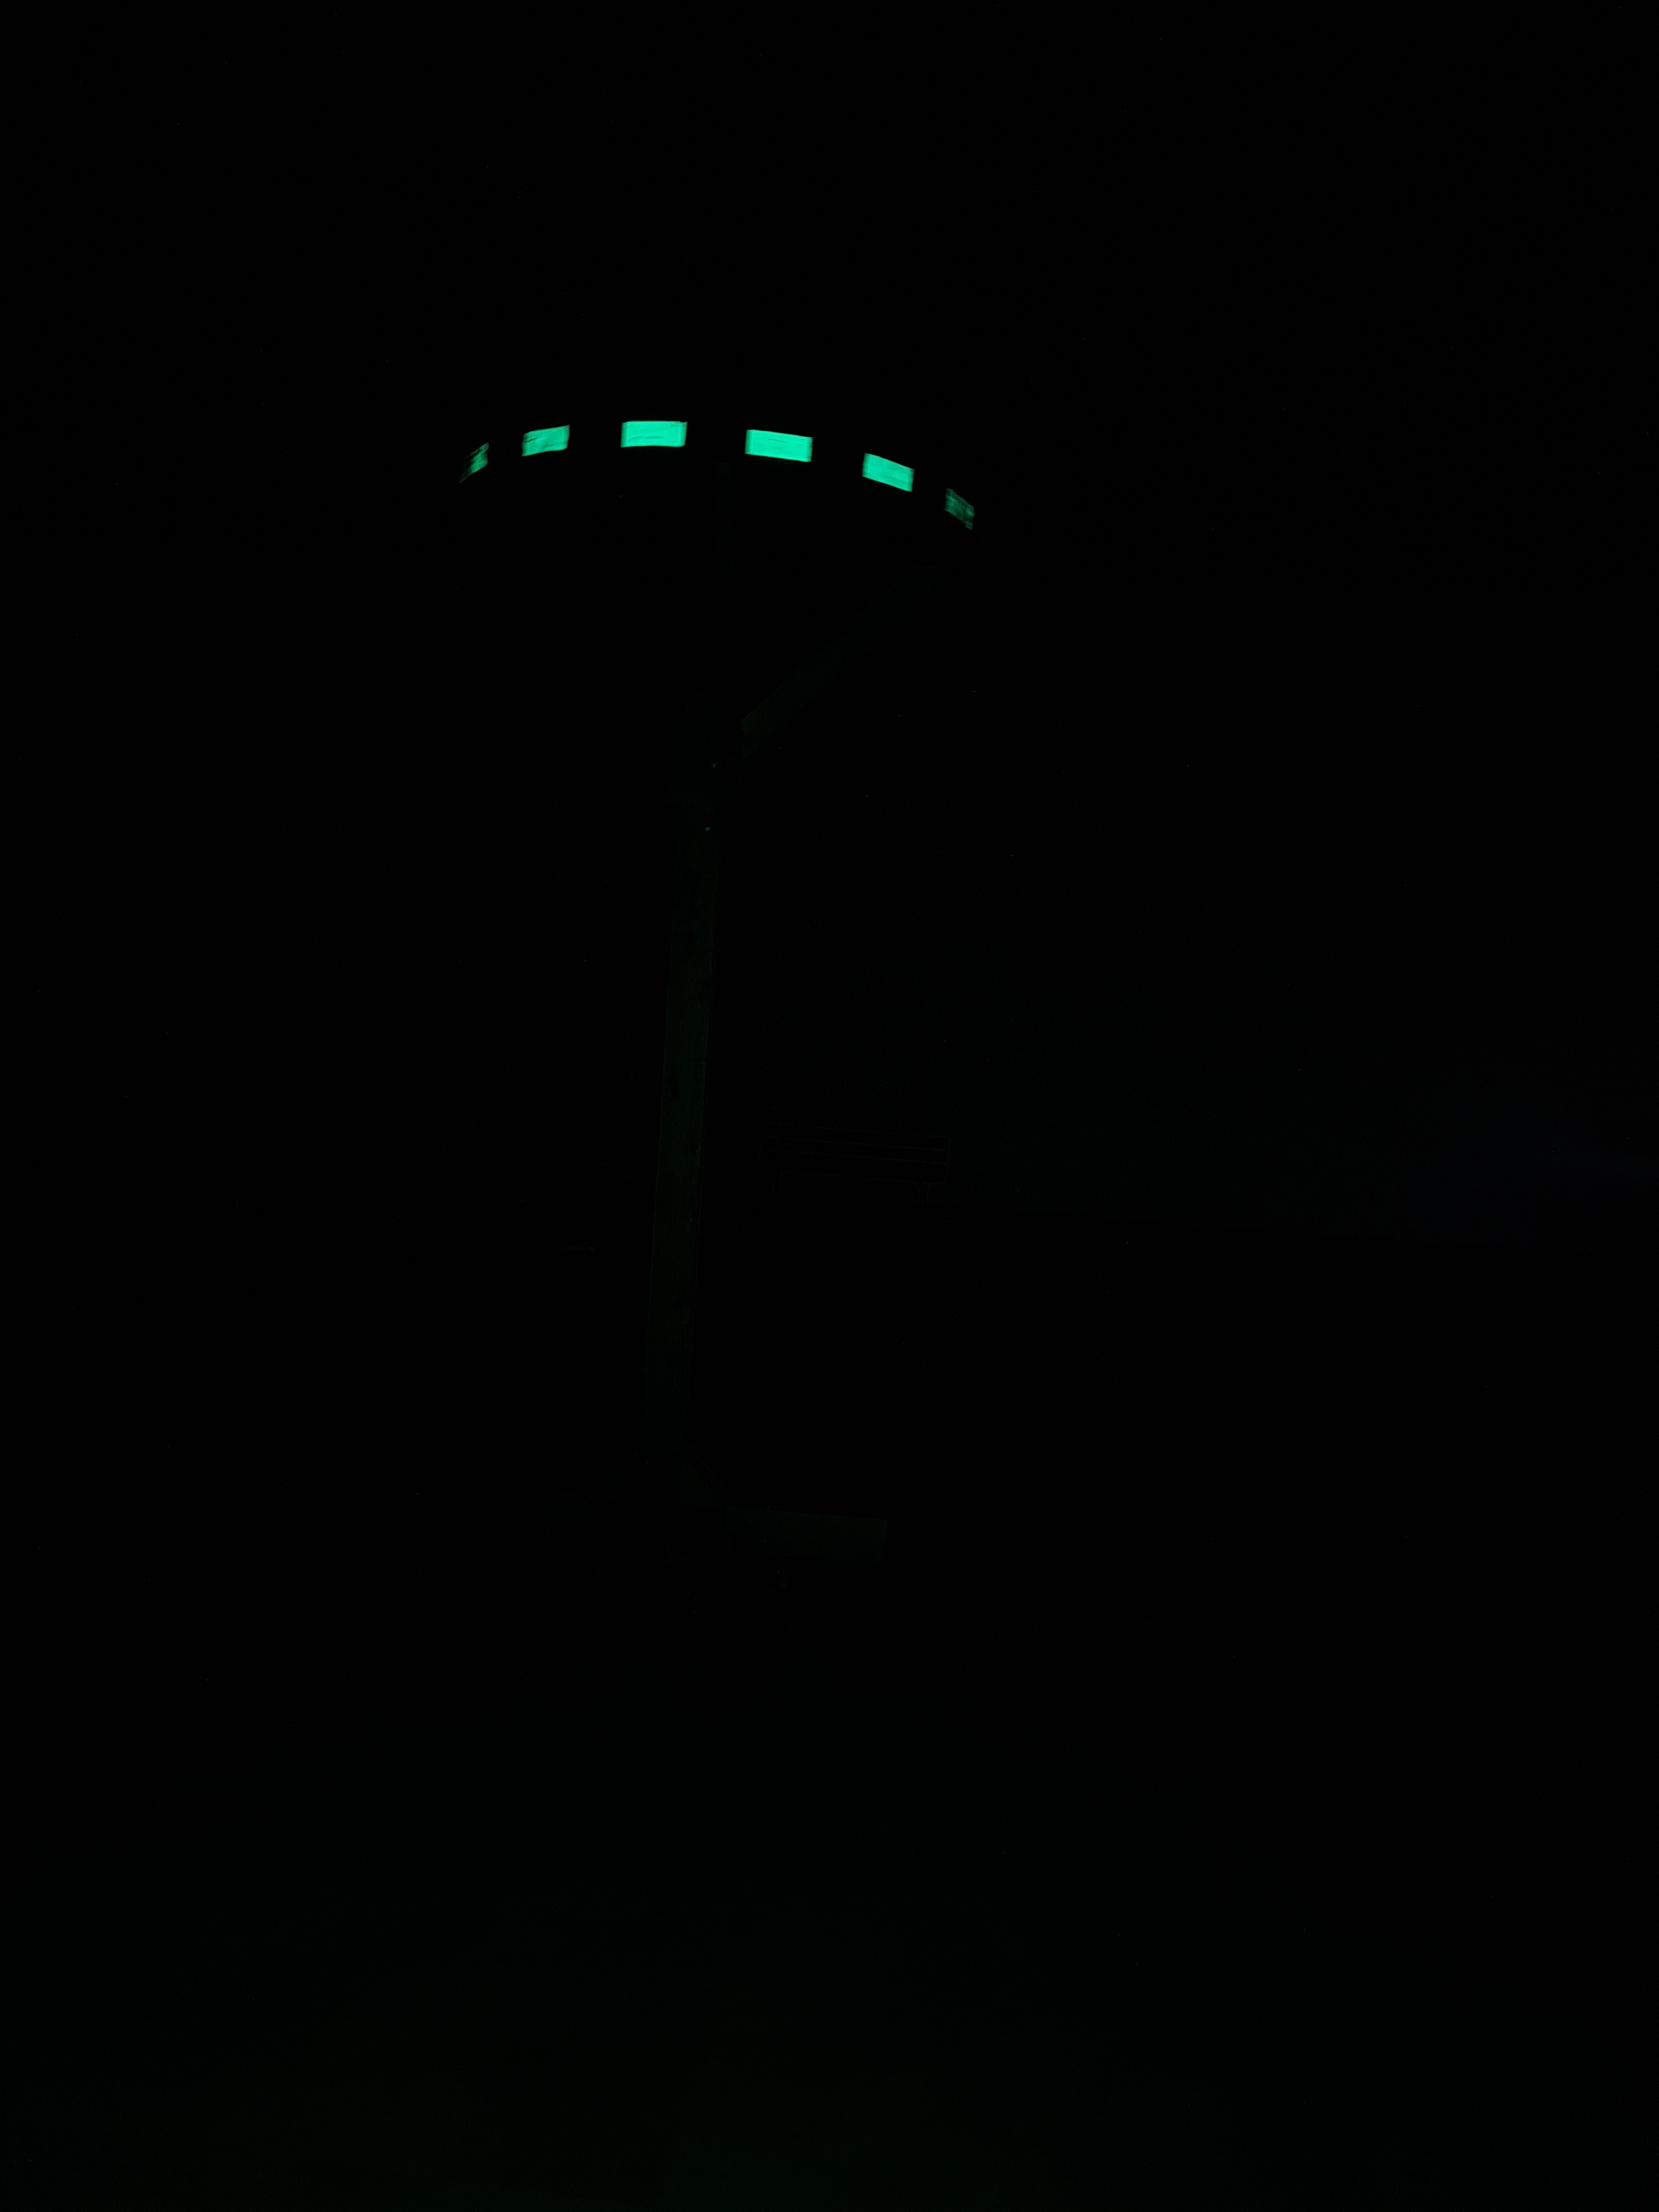hoop: (457, 404, 985, 542)
